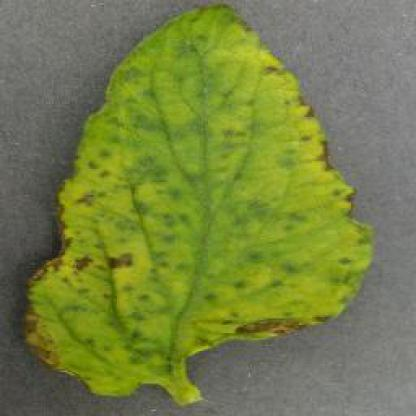bad leaf: (18, 10, 372, 416)
